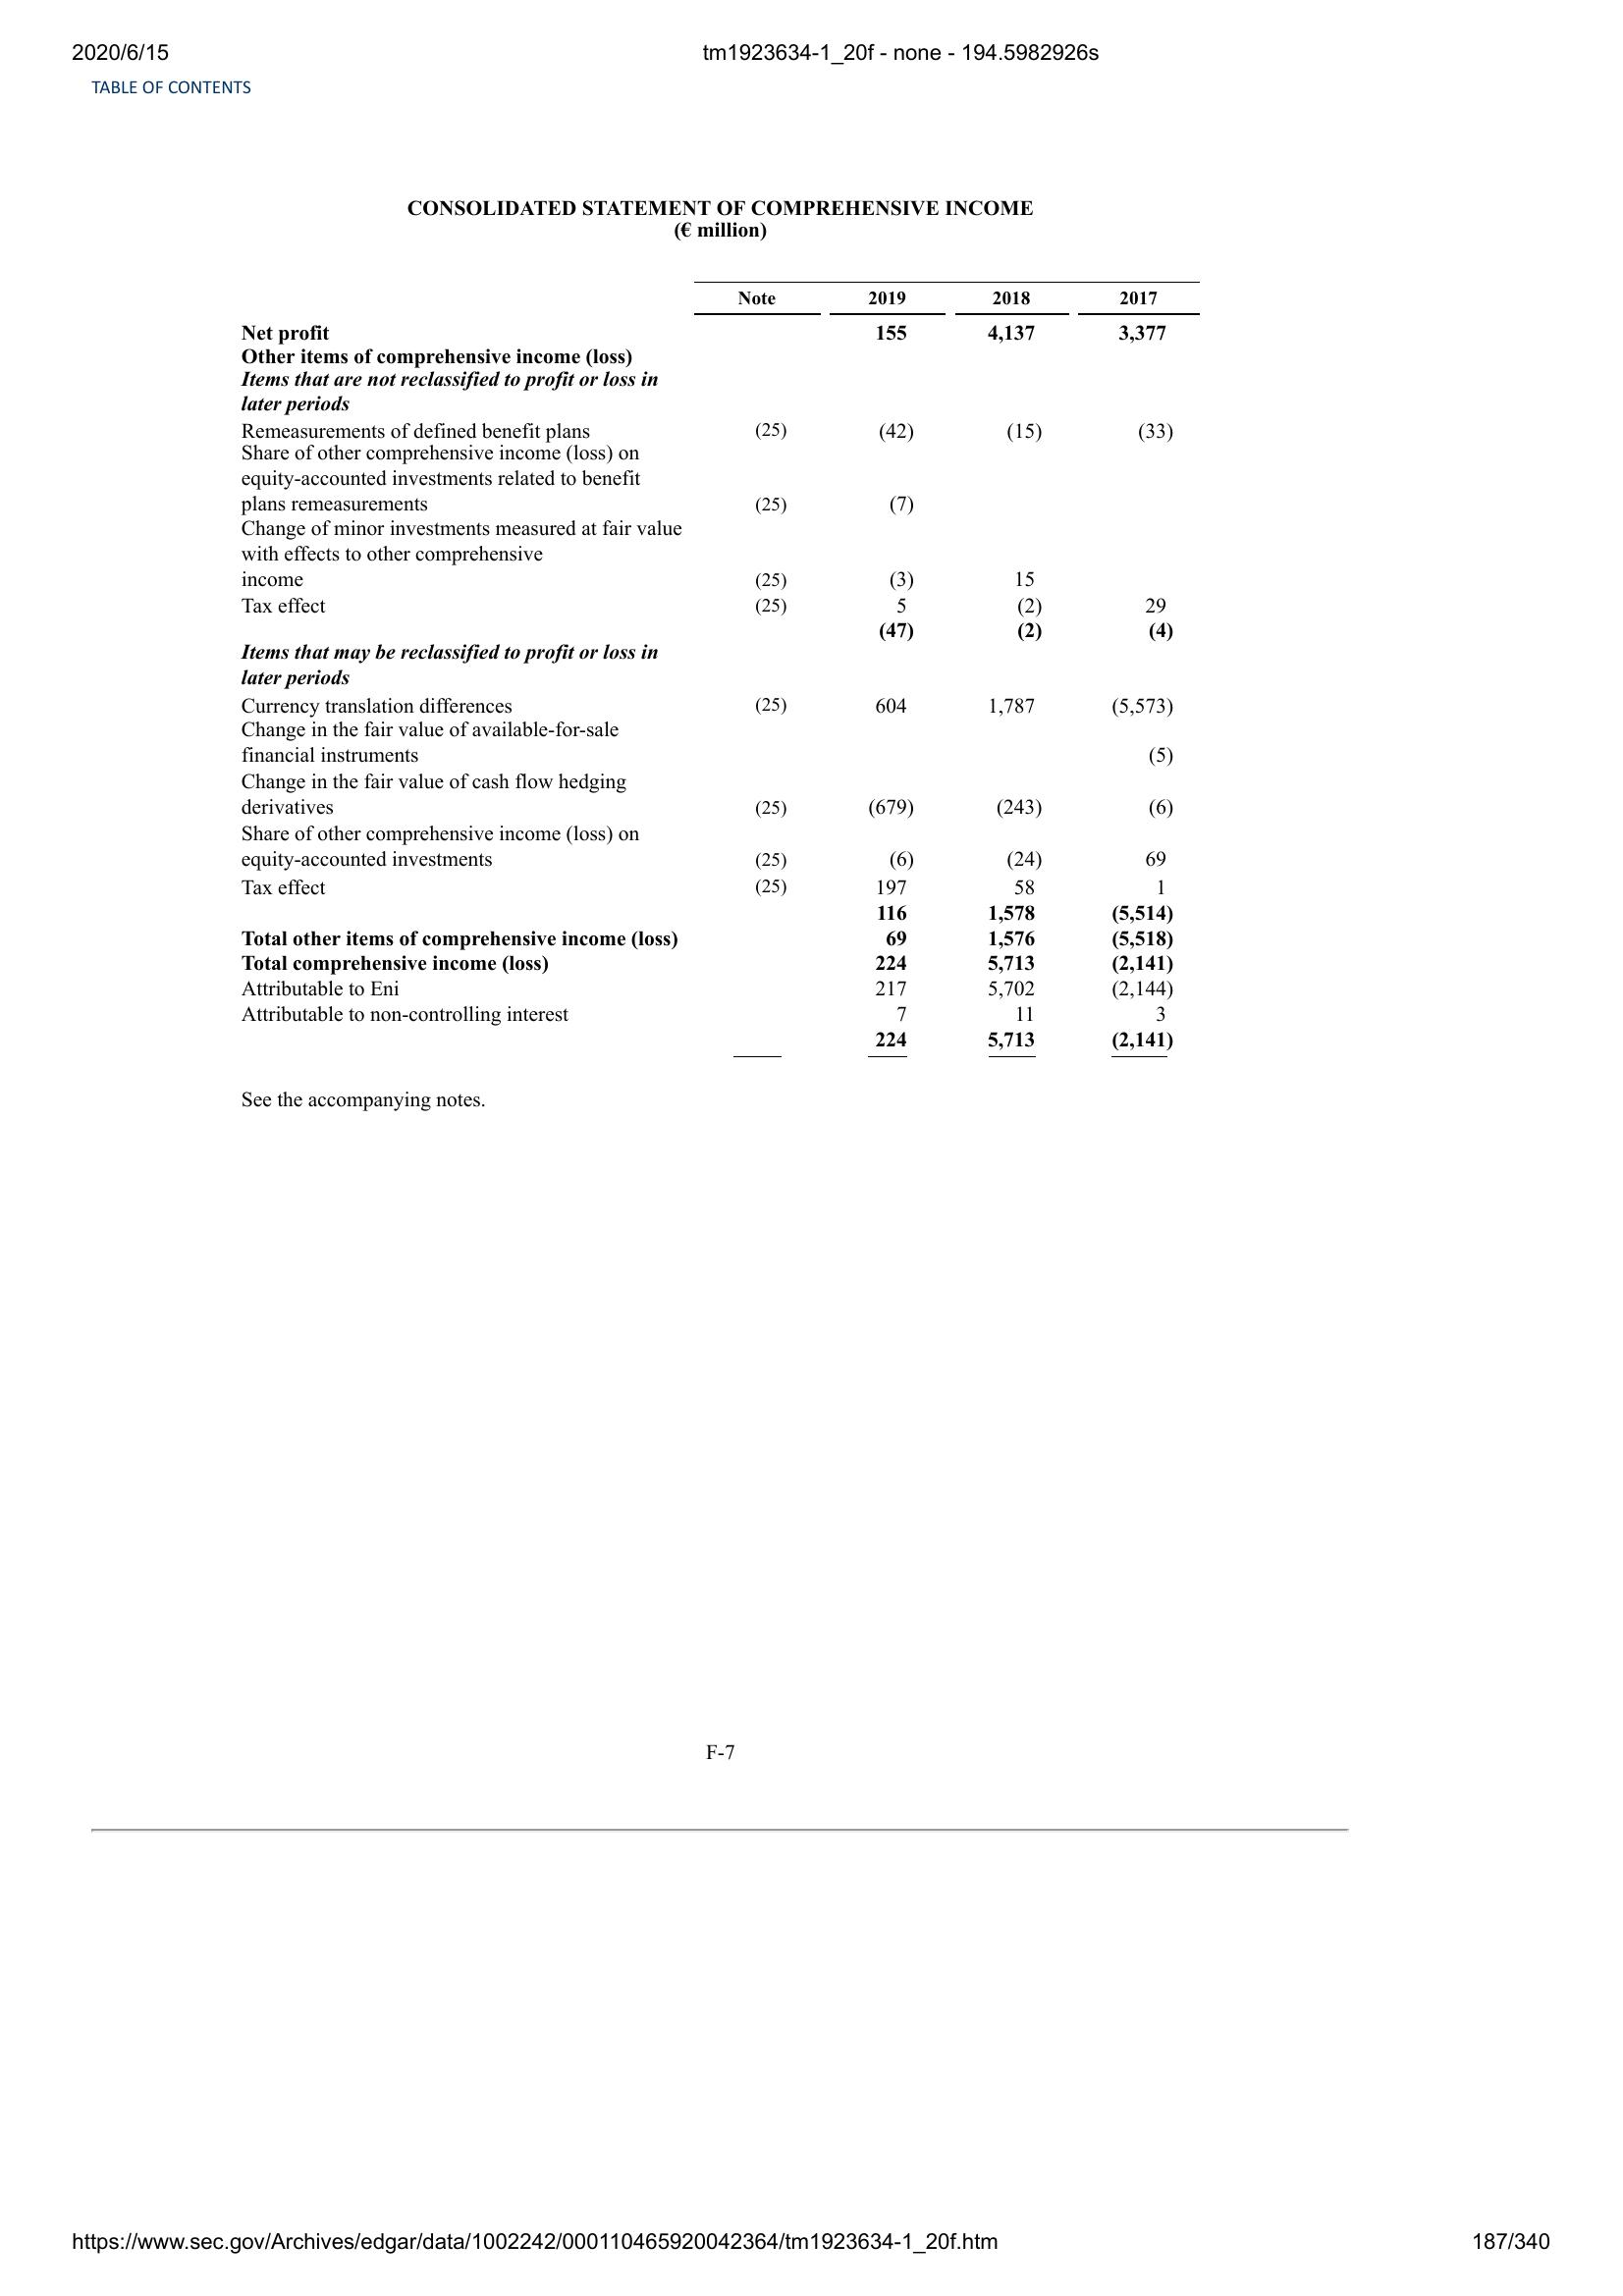table: (235, 274, 1208, 1071)
